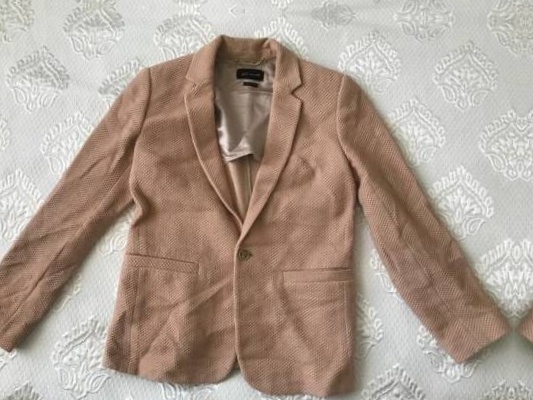Blazer: (0, 21, 512, 400), (525, 43, 533, 400), (0, 0, 527, 1)
